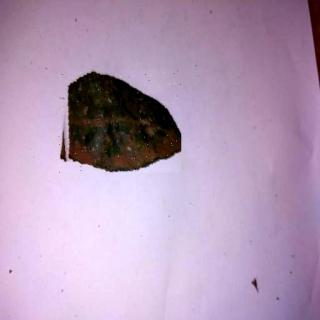Anthracnose: (59, 71, 183, 174)
